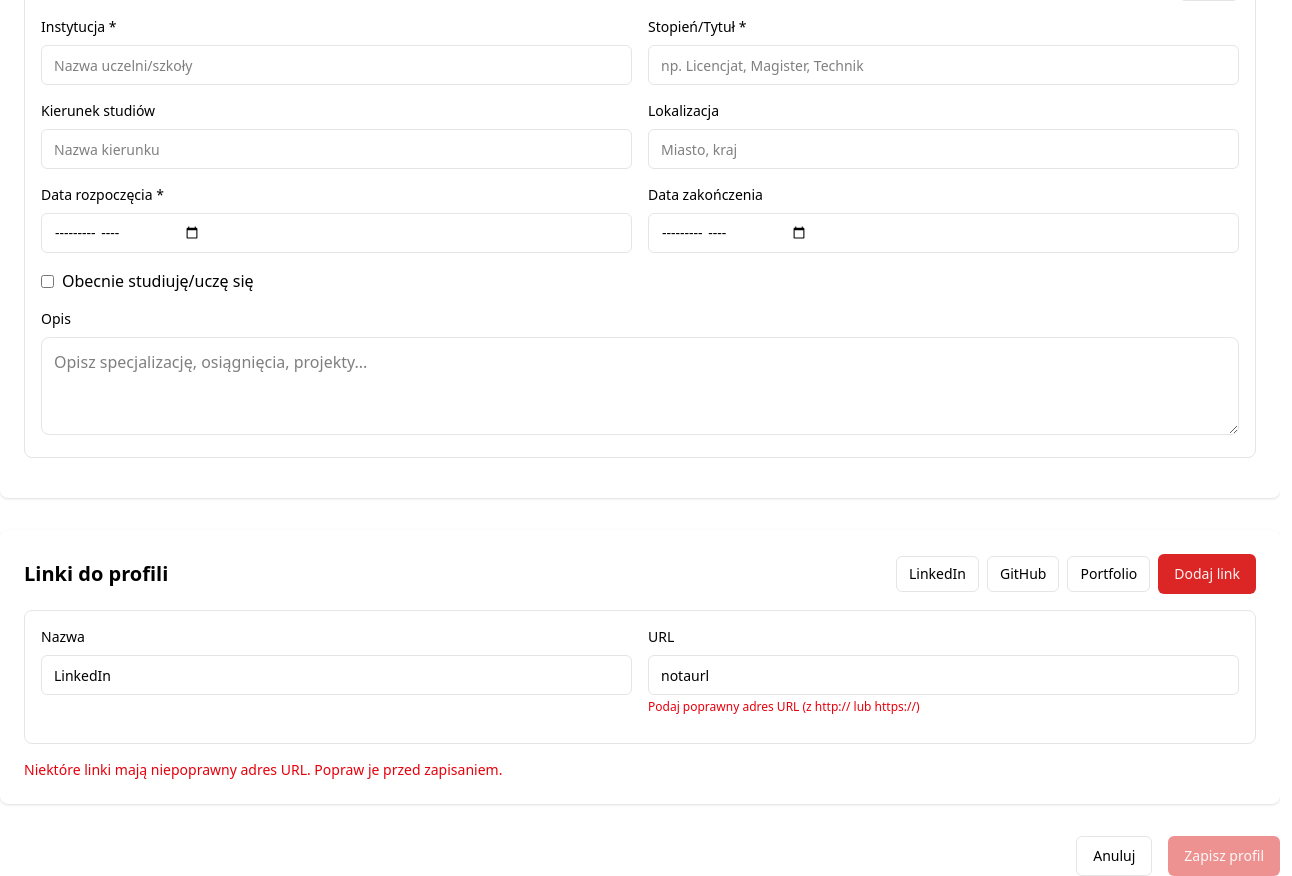
CandidateProfileForm › fixing link enables submit
(page scrolled)
Replace the text in the 4th field with placeholder "https://..." with "https://ok.com" at (944,675), box [648,655,1239,695]
(page scrolled)
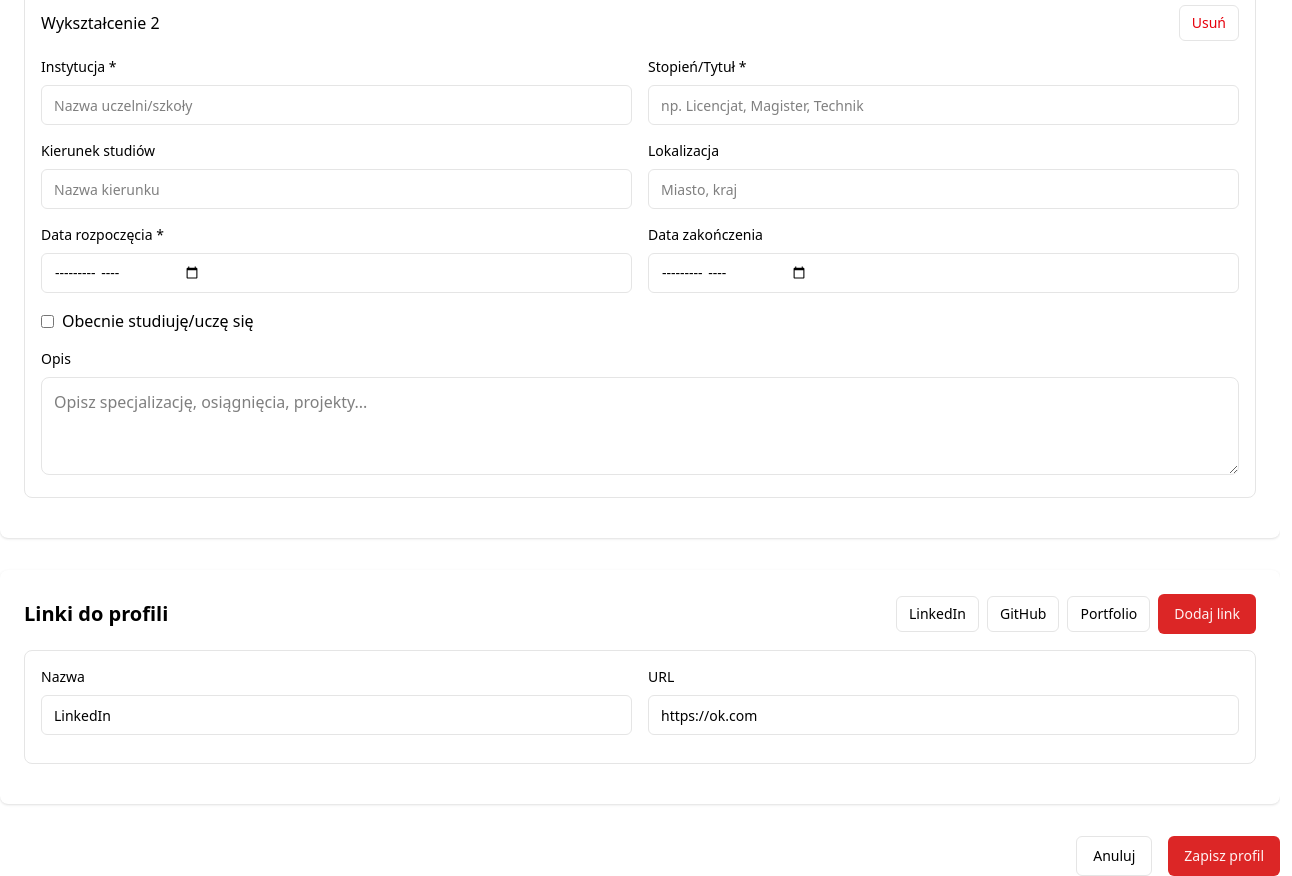
Expected: the text "Podaj poprawny adres URL" is gone
Expected: the button "Zapisz profil" is enabled, [1168,836,1280,875]
